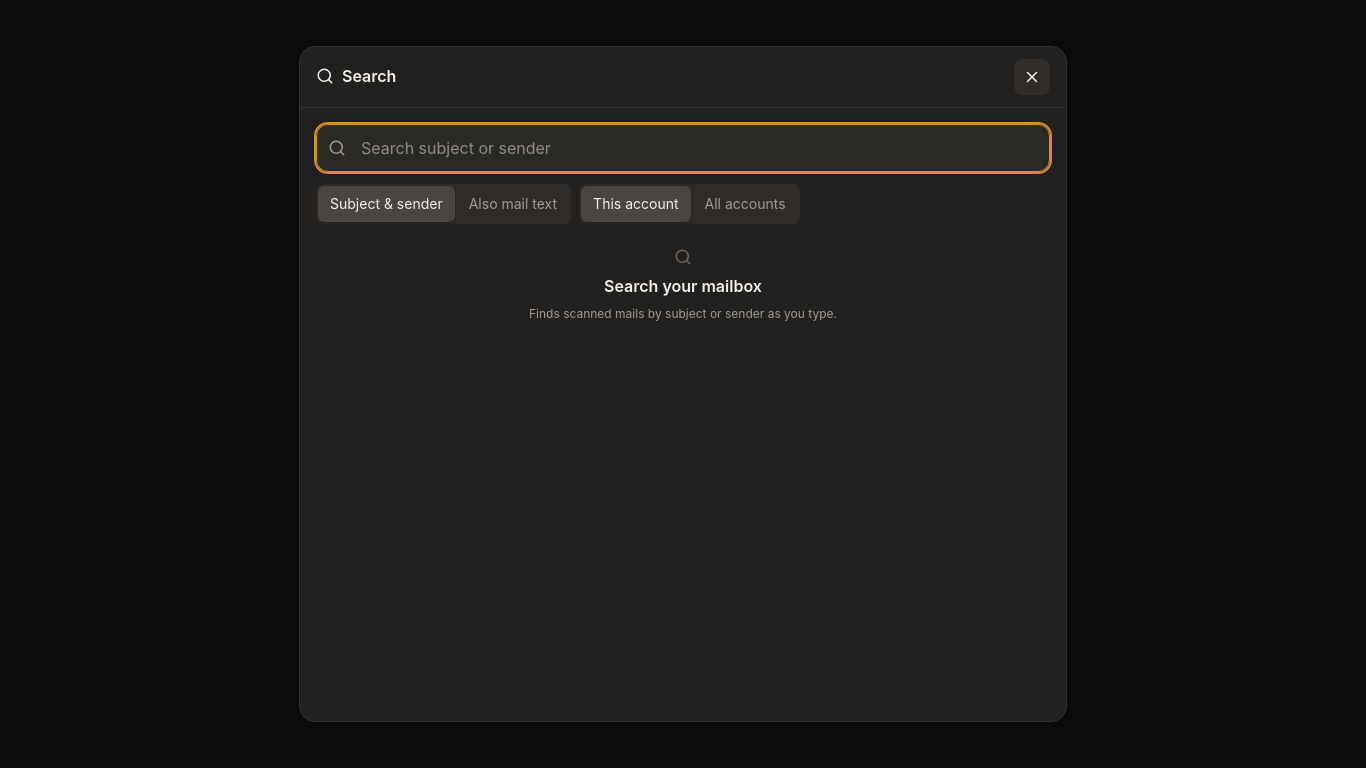
Test: All accounts: the hits of every account with an account chip, the senders with theirs
In the search field: (683, 148) [316, 124, 1050, 172], type "invoice"
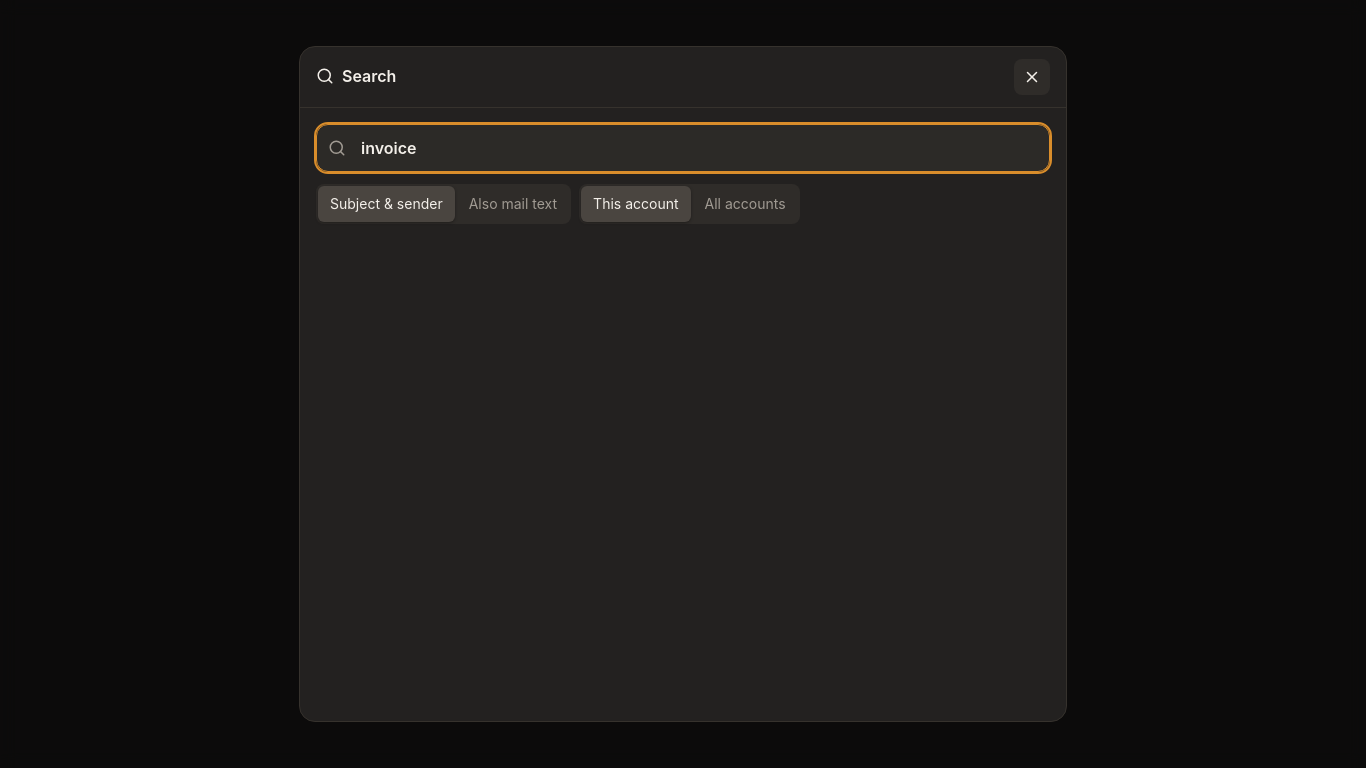
Press Enter in the search field, box [316, 124, 1050, 172]
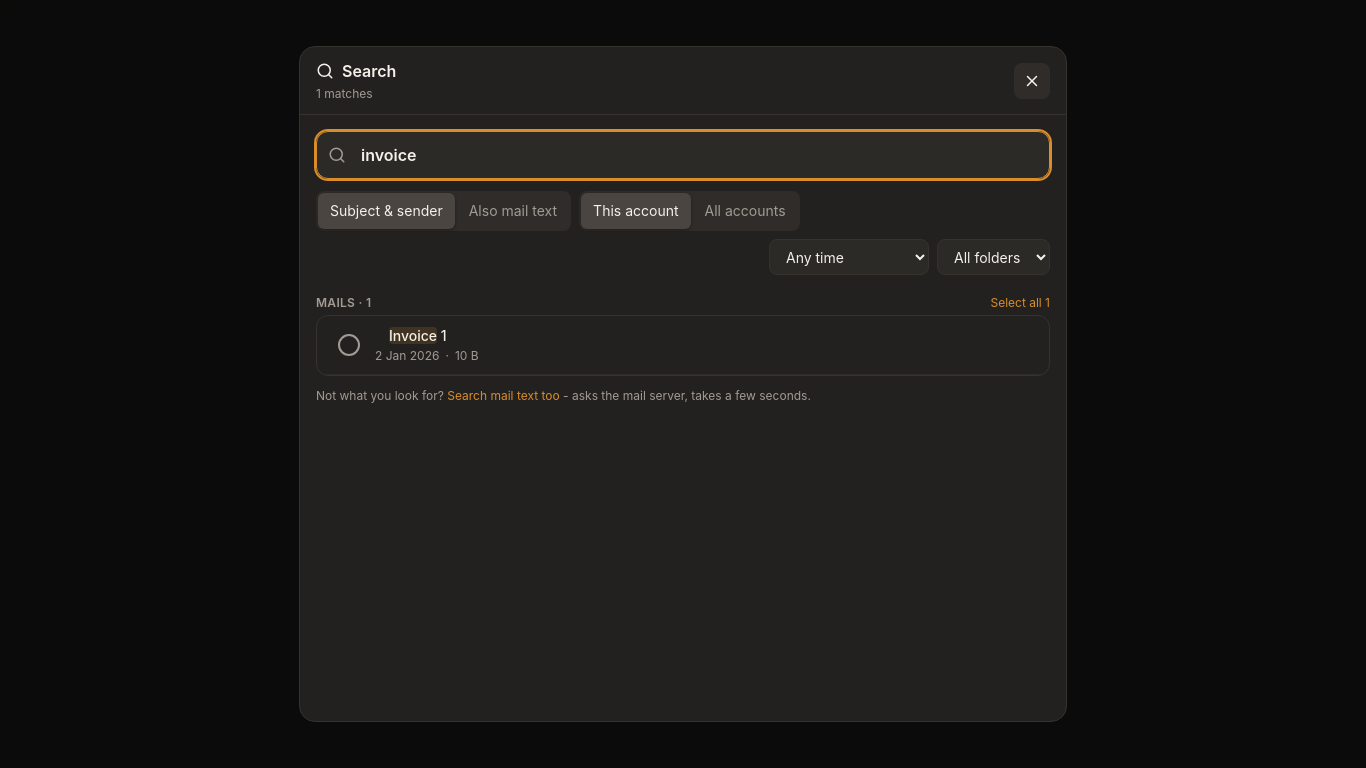
Click the radio button labelled "All accounts": (745, 211) [692, 193, 798, 229]
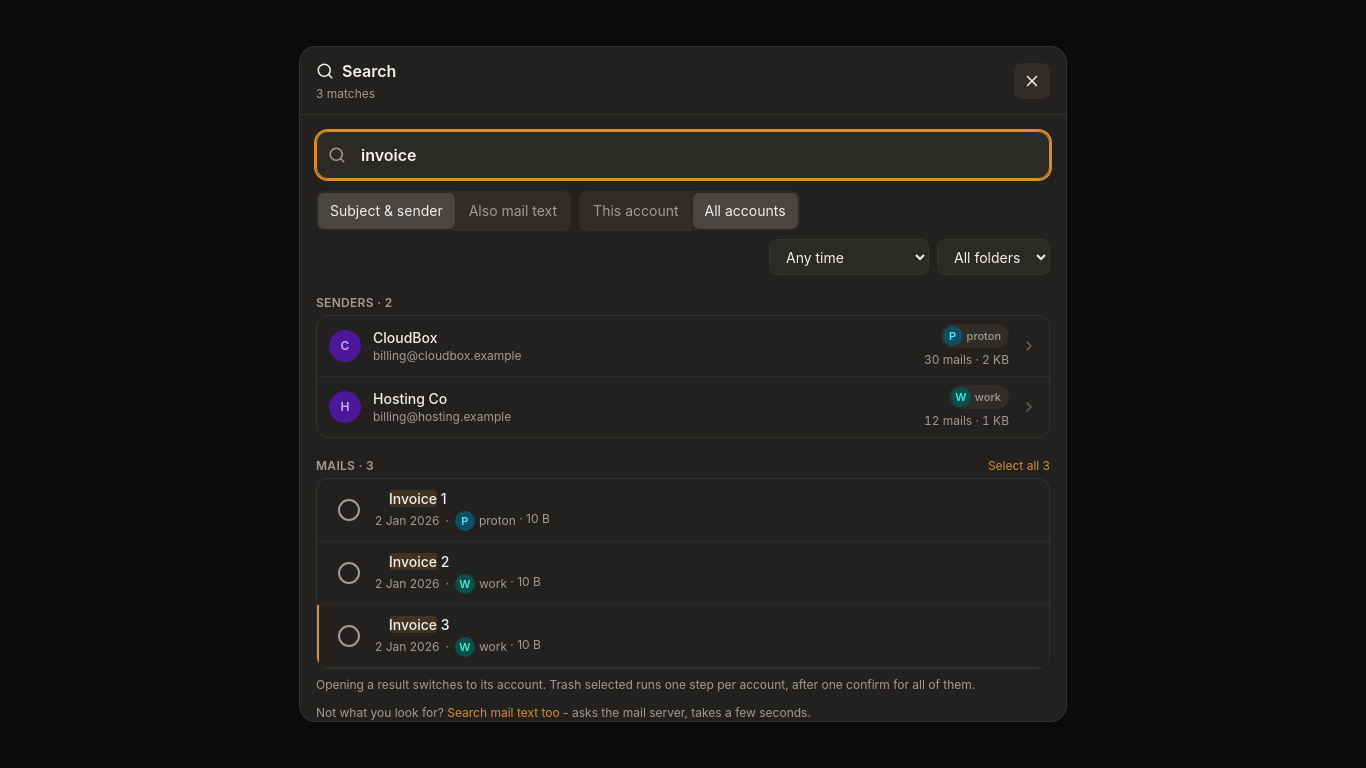
Expected: the text "Hosting Co" is shown, [373, 390, 447, 407]
Expected: the text "Senders · 2" is shown, [316, 295, 392, 310]
Expected: the text "Mails · 3" is shown, [316, 458, 374, 474]
